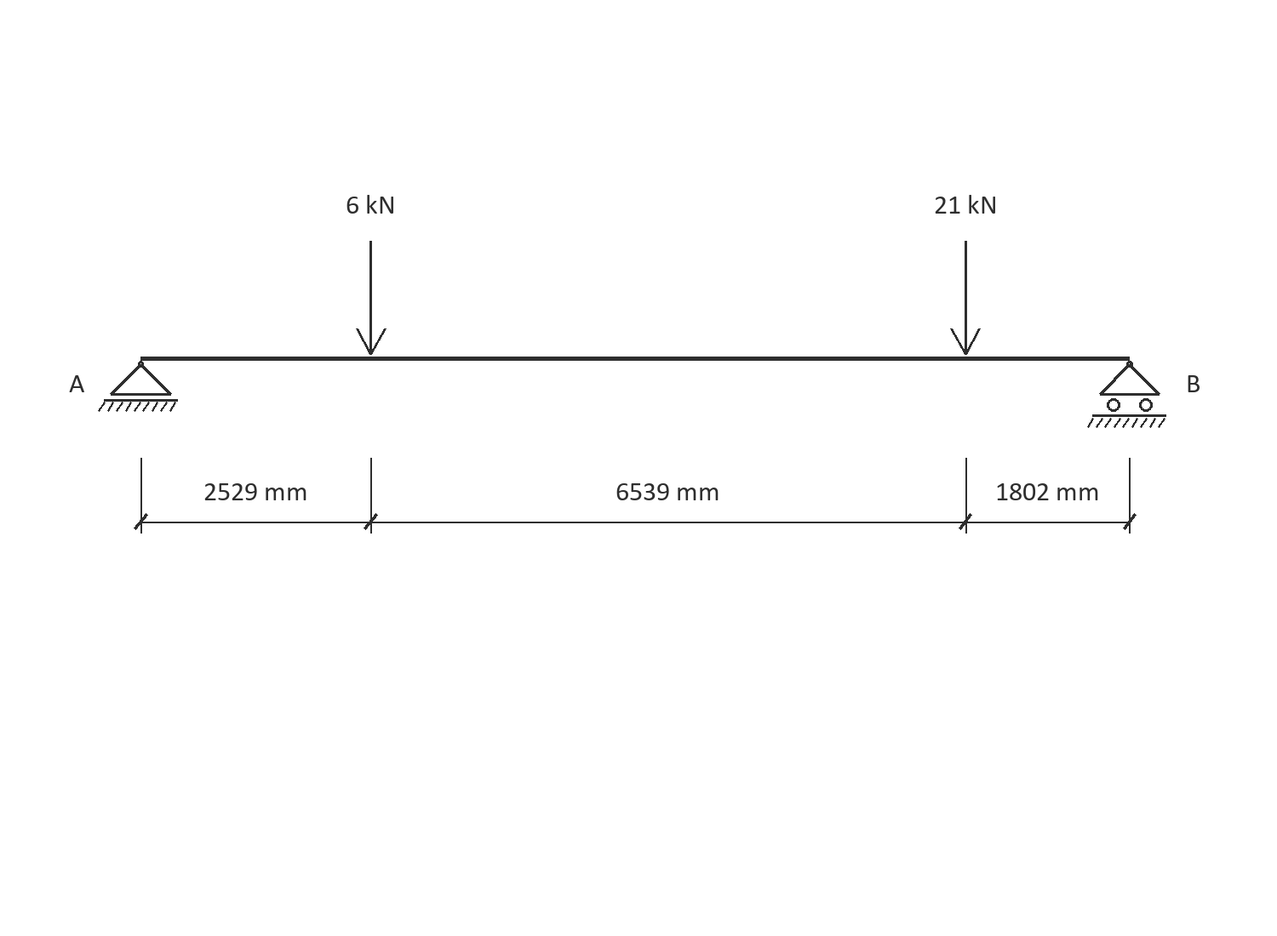pin_support: (98, 361, 178, 412)
point_load: (356, 241, 387, 355), (950, 241, 981, 355)
roller_support: (1087, 361, 1166, 428)
